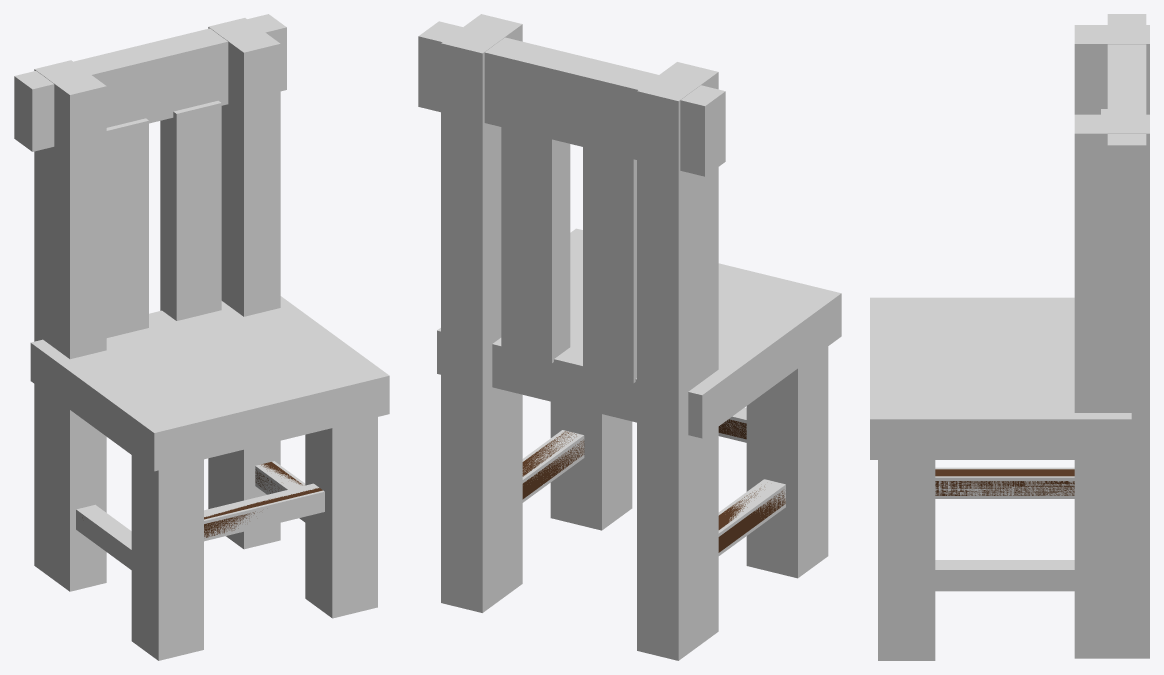
Rendered from tavern_chair.glb.
3 views of the same model, side by side, from view 1: azimuth 30°, elevation 25°; view 2: azimuth 150°, elevation 25°; view 3: azimuth 270°, elevation 25° (orthographic). The views are drawn at different scales.
Visible parts, largest first — view 1: COL_tavern_chair_00, COL_tavern_chair_04, COL_tavern_chair_03, COL_tavern_chair_02, COL_tavern_chair_05, COL_tavern_chair_01, COL_tavern_chair_07, COL_tavern_chair_06, COL_tavern_chair_10, COL_tavern_chair_09, COL_tavern_chair_08, front_stretcher; view 2: COL_tavern_chair_04, COL_tavern_chair_03, COL_tavern_chair_00, COL_tavern_chair_05, COL_tavern_chair_07, COL_tavern_chair_02, COL_tavern_chair_06, COL_tavern_chair_01, COL_tavern_chair_08, COL_tavern_chair_09, side_stretcher_right, side_stretcher_left; view 3: COL_tavern_chair_00, COL_tavern_chair_03, COL_tavern_chair_01, COL_tavern_chair_05, COL_tavern_chair_08, COL_tavern_chair_04, COL_tavern_chair_09, side_stretcher_left.
Part boxes in pixels (left/top/right/bottom): COL_tavern_chair_00: left=30, top=296, right=389, bottom=471; COL_tavern_chair_04: left=34, top=60, right=106, bottom=591; COL_tavern_chair_03: left=208, top=18, right=280, bottom=549; COL_tavern_chair_02: left=131, top=455, right=203, bottom=660; COL_tavern_chair_05: left=14, top=14, right=286, bottom=151; COL_tavern_chair_01: left=305, top=417, right=377, bottom=618; COL_tavern_chair_07: left=160, top=100, right=221, bottom=320; COL_tavern_chair_06: left=106, top=118, right=148, bottom=337; COL_tavern_chair_10: left=204, top=483, right=324, bottom=541; COL_tavern_chair_09: left=76, top=504, right=131, bottom=569; COL_tavern_chair_08: left=255, top=461, right=305, bottom=522; front_stretcher: left=204, top=488, right=322, bottom=537; COL_tavern_chair_04: left=637, top=62, right=718, bottom=660; COL_tavern_chair_03: left=441, top=14, right=522, bottom=612; COL_tavern_chair_00: left=437, top=228, right=841, bottom=438; COL_tavern_chair_05: left=418, top=21, right=725, bottom=176; COL_tavern_chair_07: left=501, top=127, right=570, bottom=363; COL_tavern_chair_02: left=746, top=346, right=828, bottom=578; COL_tavern_chair_06: left=583, top=147, right=636, bottom=383; COL_tavern_chair_01: left=550, top=401, right=632, bottom=530; COL_tavern_chair_08: left=522, top=430, right=584, bottom=502; COL_tavern_chair_09: left=718, top=479, right=785, bottom=555; side_stretcher_right: left=522, top=431, right=584, bottom=499; side_stretcher_left: left=718, top=486, right=785, bottom=552; COL_tavern_chair_00: left=870, top=297, right=1131, bottom=459; COL_tavern_chair_03: left=1074, top=114, right=1149, bottom=658; COL_tavern_chair_01: left=878, top=460, right=935, bottom=660; COL_tavern_chair_05: left=1107, top=14, right=1146, bottom=211; COL_tavern_chair_08: left=935, top=560, right=1074, bottom=591; COL_tavern_chair_04: left=1074, top=25, right=1149, bottom=114; COL_tavern_chair_09: left=935, top=467, right=1074, bottom=498; side_stretcher_left: left=935, top=469, right=1074, bottom=495.
Size of the model in its own units: 0.5267 by 0.9826 by 0.4743.
